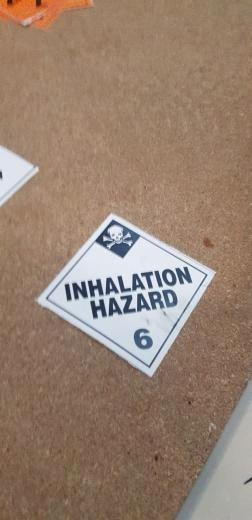poison: (36, 213, 214, 376)
